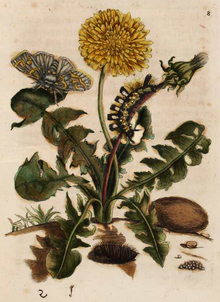dandelion: (83, 15, 158, 78)
